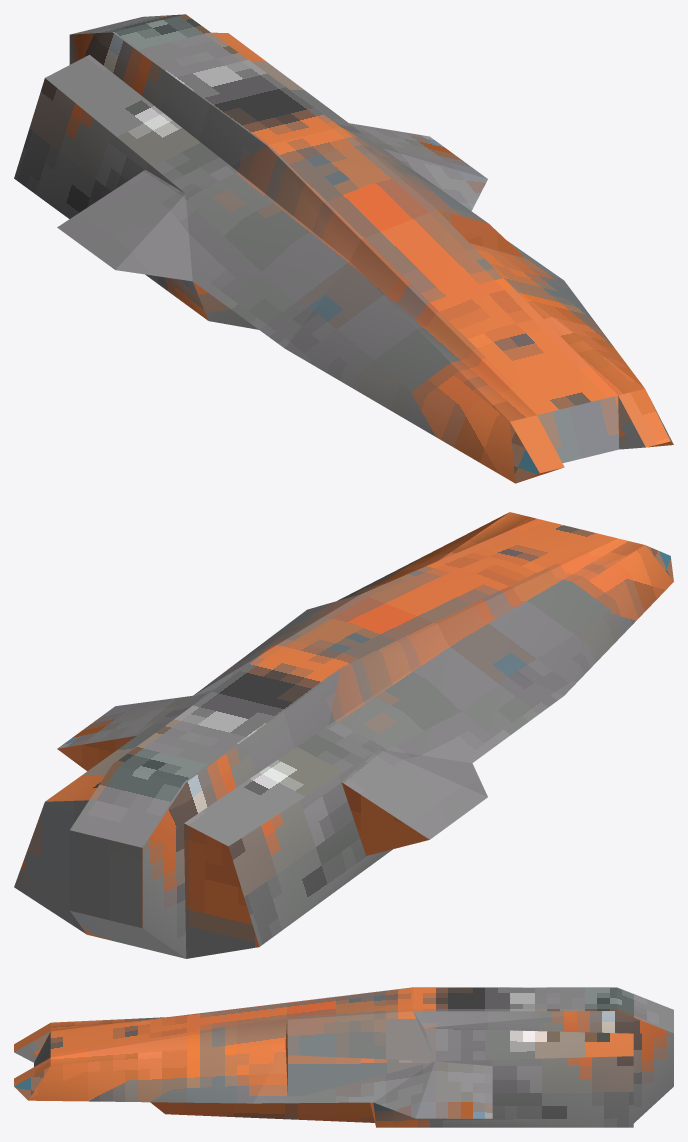
The model's file is LOD2-UVFlip.obj.
The picture shows the model from 3 angles, top to bottom: view 1: azimuth 30°, elevation 25°; view 2: azimuth 150°, elevation 25°; view 3: azimuth 270°, elevation 25°; orthographic projection. The views are drawn at different scales.
Parts seen in each view (by area): view 1: Hgn_MinelayerCorv_LOD2; view 2: Hgn_MinelayerCorv_LOD2; view 3: Hgn_MinelayerCorv_LOD2.
Boxes of the visible parts, bbox=[...] form: Hgn_MinelayerCorv_LOD2: bbox=[14, 14, 673, 483]; Hgn_MinelayerCorv_LOD2: bbox=[14, 512, 673, 958]; Hgn_MinelayerCorv_LOD2: bbox=[14, 987, 673, 1127].
Bounding box in the file's own units: 23.46 × 9.87 × 54.4.
